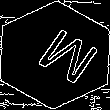M_SW: (18, 21, 92, 89)
